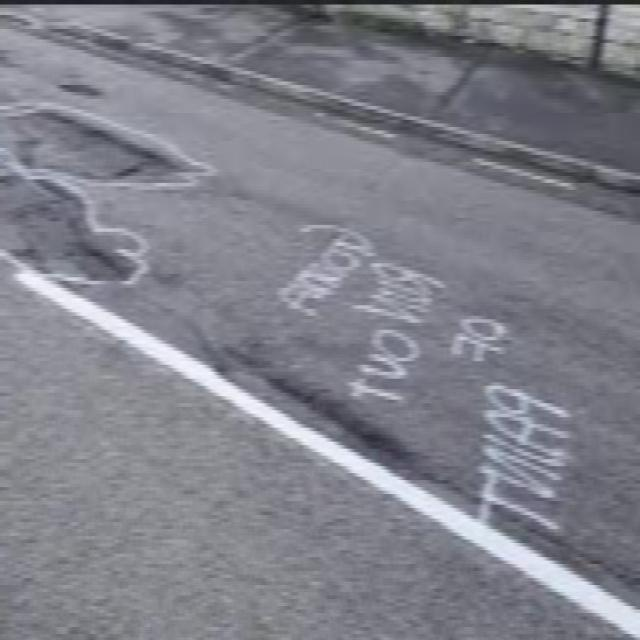Pothole: (0, 94, 216, 194), (0, 183, 144, 290)
